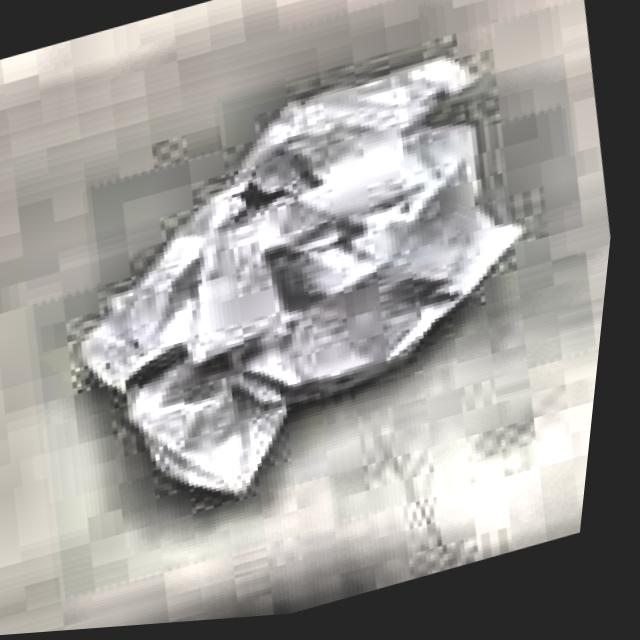Paper: (14, 27, 601, 556)
